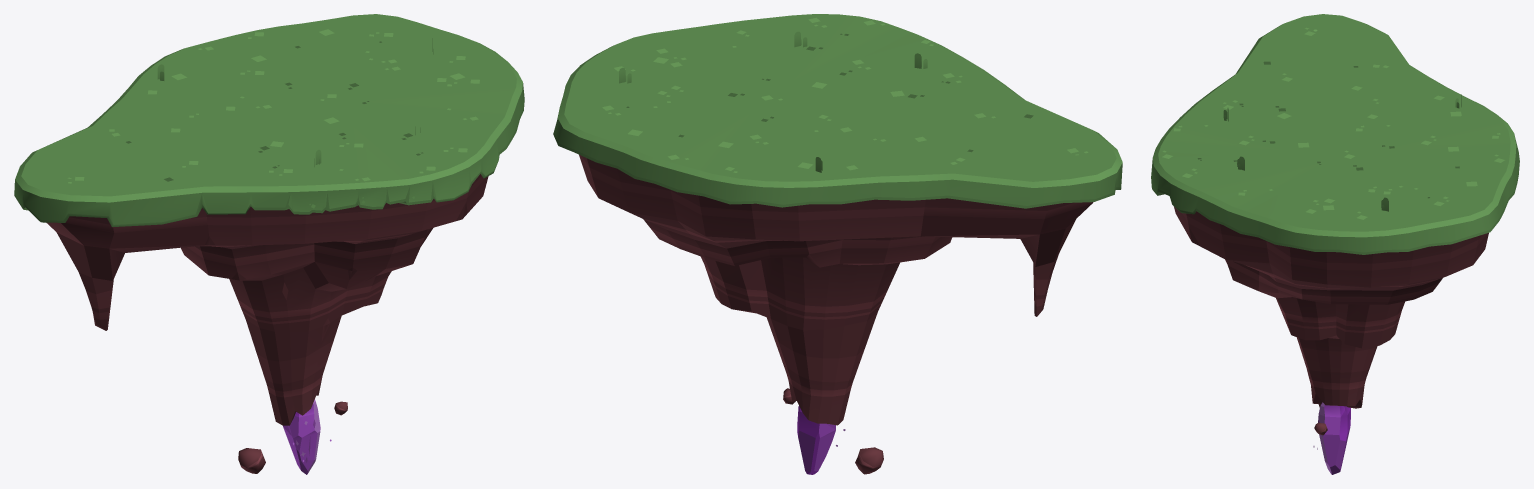
Rendered from Island_Small.fbx.
3 views of the same model, side by side, from view 1: azimuth 30°, elevation 25°; view 2: azimuth 150°, elevation 25°; view 3: azimuth 270°, elevation 25° (orthographic). The views are drawn at different scales.
Parts seen in each view (by area): view 1: Island_Small; view 2: Island_Small; view 3: Island_Small.
Boxes of the visible parts, x1=… form: Island_Small: x1=14, y1=14, x2=524, y2=474; Island_Small: x1=553, y1=14, x2=1122, y2=474; Island_Small: x1=1151, y1=14, x2=1519, y2=474.
Bounding box in the file's own units: 16.45 × 11.92 × 11.49.
